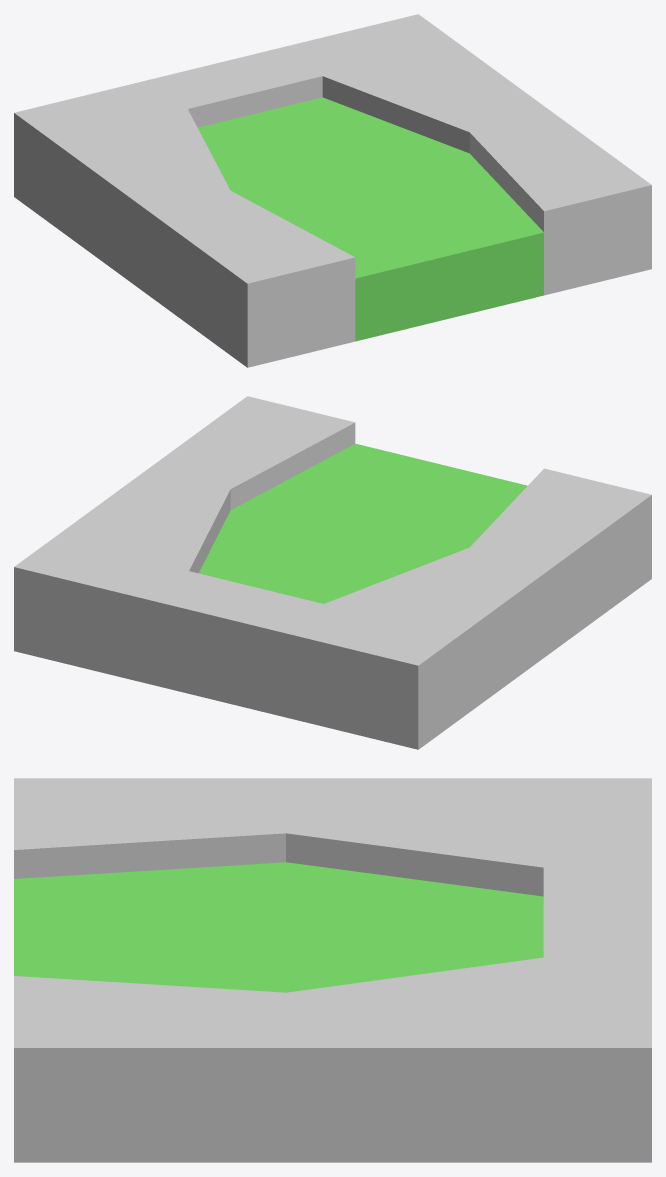
File: end.fbx
3 views of the same model, one above another, from view 1: azimuth 30°, elevation 25°; view 2: azimuth 150°, elevation 25°; view 3: azimuth 270°, elevation 25° (orthographic). The views are drawn at different scales.
Parts seen in each view (by area): view 1: Grass.001; view 2: Grass.001; view 3: Grass.001.
Part boxes in pixels (<box>): Grass.001: <box>14,14,651,367</box>; Grass.001: <box>14,396,651,749</box>; Grass.001: <box>14,778,651,1162</box>.
Size of the model in its own units: 200 by 39.76 by 200.
